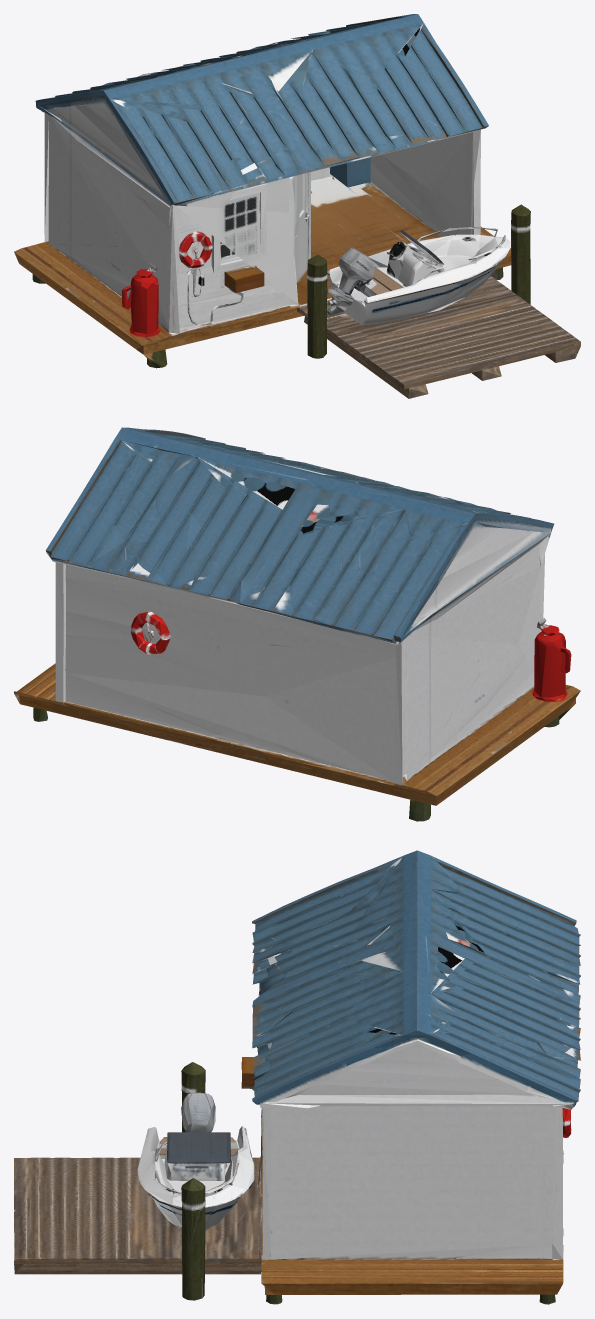
File: marina.glb
The picture shows the model from 3 angles, top to bottom: view 1: azimuth 30°, elevation 25°; view 2: azimuth 150°, elevation 25°; view 3: azimuth 270°, elevation 25°; orthographic projection. The views are drawn at different scales.
Parts seen in each view (by area): view 1: output_unwrapped; view 2: output_unwrapped; view 3: output_unwrapped.
Boxes of the visible parts, x1,y1,x2,y2 form: output_unwrapped: [14, 14, 580, 398]; output_unwrapped: [14, 427, 580, 821]; output_unwrapped: [14, 850, 580, 1304].
Bounding box in the file's own units: 1.73 × 0.9905 × 1.9.
1 material, 1 textured.
